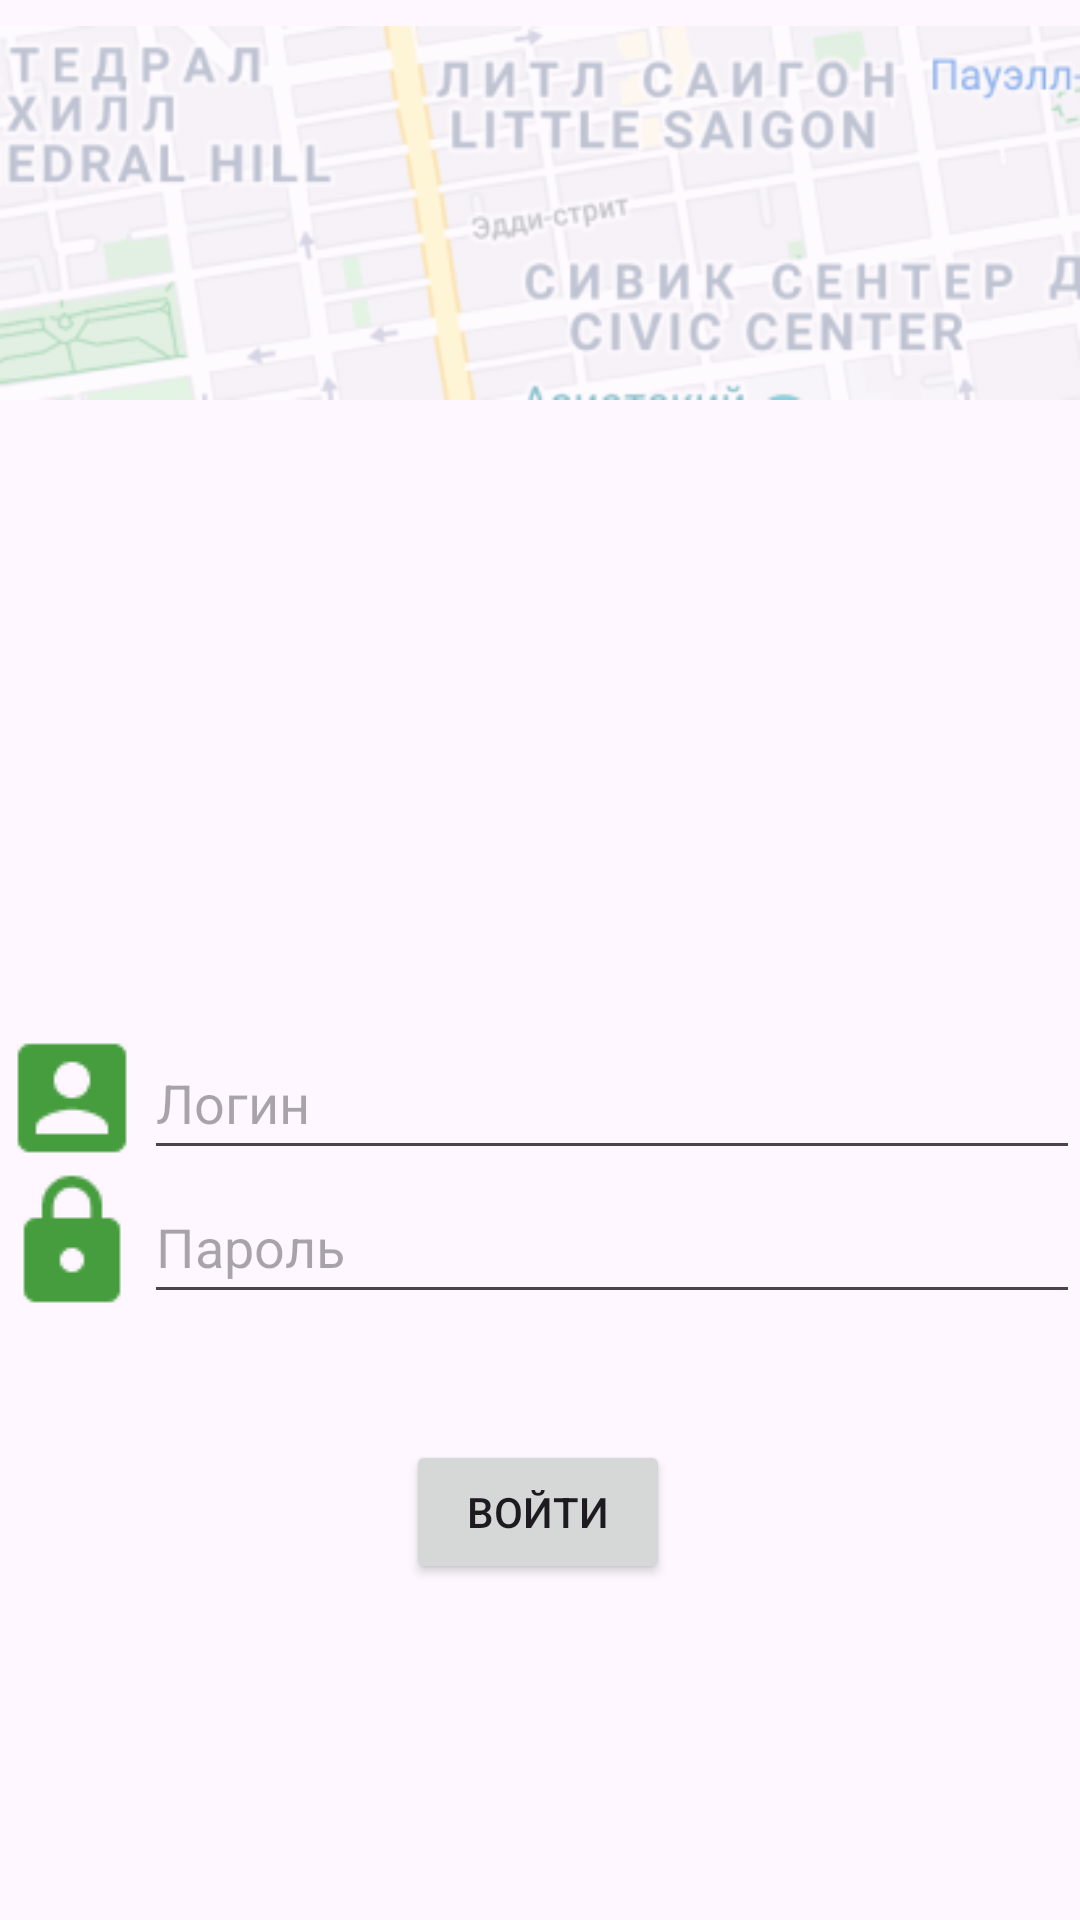

Named icons in this screenshot (1080×1920) and their bounding boxes, (x1, y1, x2, y2):
accountbox: (17, 1043, 127, 1153)
lock: (23, 1175, 121, 1303)
